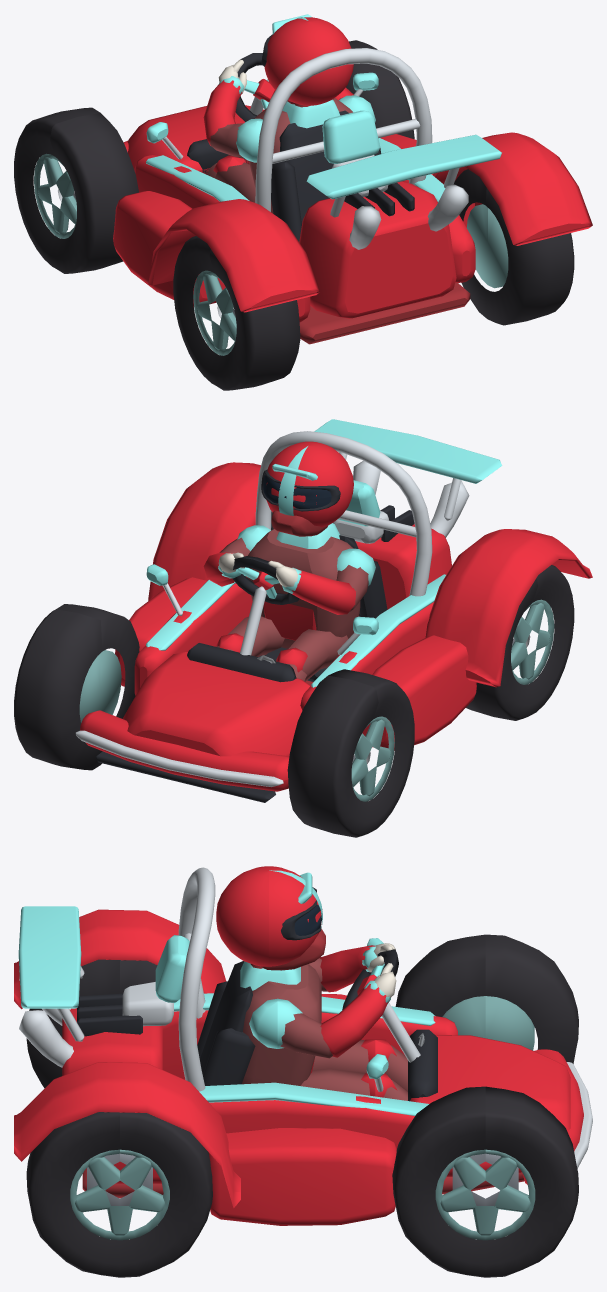
The model's file is kart_0.glb.
3 renders of one model, top to bottom at view 1: azimuth 30°, elevation 25°; view 2: azimuth 150°, elevation 25°; view 3: azimuth 270°, elevation 25°, orthographic. The views are drawn at different scales.
Parts seen in each view (by area): view 1: bodyPaint, bodyFenders, WheelFL_tyre, WheelRL_tyre, WheelRR_tyre, bodyChrome, bodyPlastic, driverHelmet, driverArms, driverTorso, WheelFR_tyre, steeringWheel; view 2: bodyPaint, bodyFenders, WheelFL_tyre, WheelFR_tyre, bodyChrome, driverTorso, WheelRL_tyre, driverHelmet, bodyPlastic, driverArms, steeringWheel, driverVisor; view 3: bodyPaint, WheelFR_tyre, WheelRR_tyre, bodyFenders, WheelFL_tyre, bodyChrome, driverTorso, bodyPlastic, driverHelmet, driverArms, WheelRL_tyre, steeringWheel (+1 smaller).
Part boxes in pixels (bbox=[...]): bodyPaint: bbox=[113, 72, 501, 322]; bodyFenders: bbox=[148, 132, 592, 312]; WheelFL_tyre: bbox=[14, 107, 138, 273]; WheelRL_tyre: bbox=[173, 236, 300, 390]; WheelRR_tyre: bbox=[453, 169, 574, 325]; bodyChrome: bbox=[162, 48, 468, 249]; bodyPlastic: bbox=[187, 110, 470, 344]; driverHelmet: bbox=[261, 14, 353, 105]; driverArms: bbox=[203, 59, 375, 162]; driverTorso: bbox=[207, 98, 352, 213]; WheelFR_tyre: bbox=[346, 40, 414, 139]; steeringWheel: bbox=[235, 53, 275, 121]; bodyPaint: bbox=[80, 419, 501, 791]; bodyFenders: bbox=[148, 462, 592, 687]; WheelFL_tyre: bbox=[287, 669, 414, 837]; WheelFR_tyre: bbox=[14, 604, 139, 770]; bodyChrome: bbox=[75, 431, 469, 786]; driverTorso: bbox=[216, 523, 360, 681]; WheelRL_tyre: bbox=[466, 565, 574, 720]; driverHelmet: bbox=[261, 441, 353, 536]; bodyPlastic: bbox=[96, 505, 414, 802]; driverArms: bbox=[203, 525, 375, 614]; steeringWheel: bbox=[232, 556, 299, 604]; driverVisor: bbox=[263, 475, 331, 508]; bodyPaint: bbox=[18, 906, 583, 1225]; WheelFR_tyre: bbox=[392, 1086, 578, 1277]; WheelRR_tyre: bbox=[26, 1112, 212, 1277]; bodyFenders: bbox=[14, 909, 240, 1208]; WheelFL_tyre: bbox=[395, 934, 578, 1063]; bodyChrome: bbox=[19, 867, 592, 1168]; driverTorso: bbox=[240, 961, 407, 1100]; bodyPlastic: bbox=[77, 961, 524, 1198]; driverHelmet: bbox=[216, 866, 325, 970]; driverArms: bbox=[249, 943, 396, 1058]; WheelRL_tyre: bbox=[26, 959, 157, 1088]; steeringWheel: bbox=[342, 949, 398, 1009].
Size of the model in its own units: 1.86 by 1.43 by 2.31.
